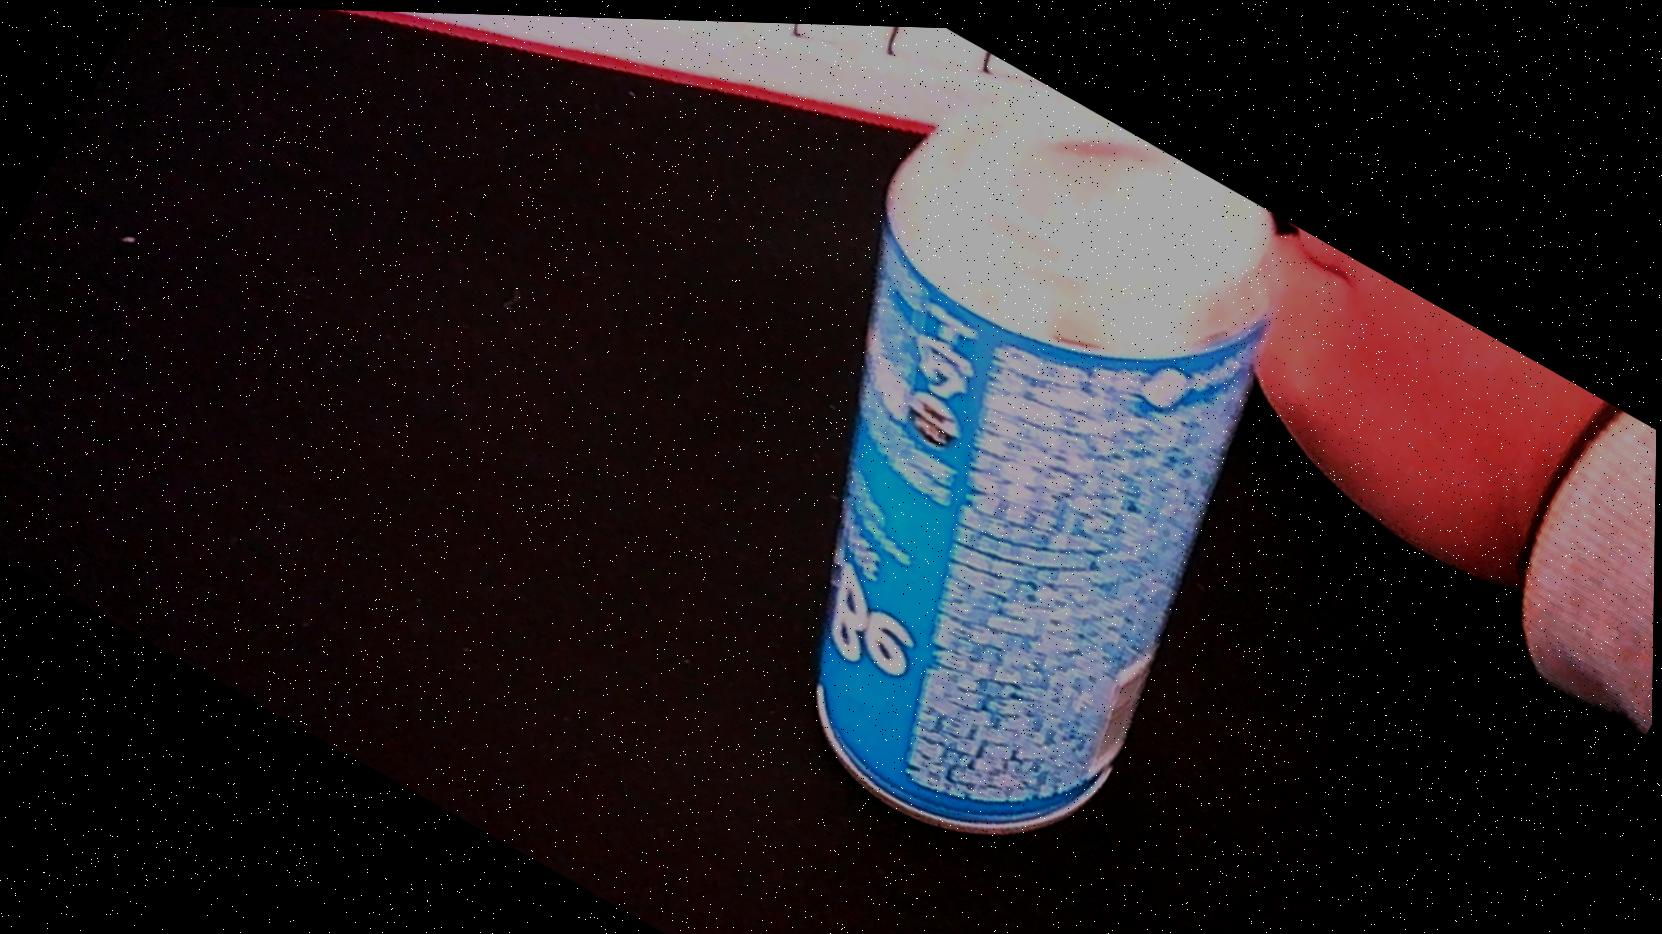letsbe: (621, 25, 1390, 897)
